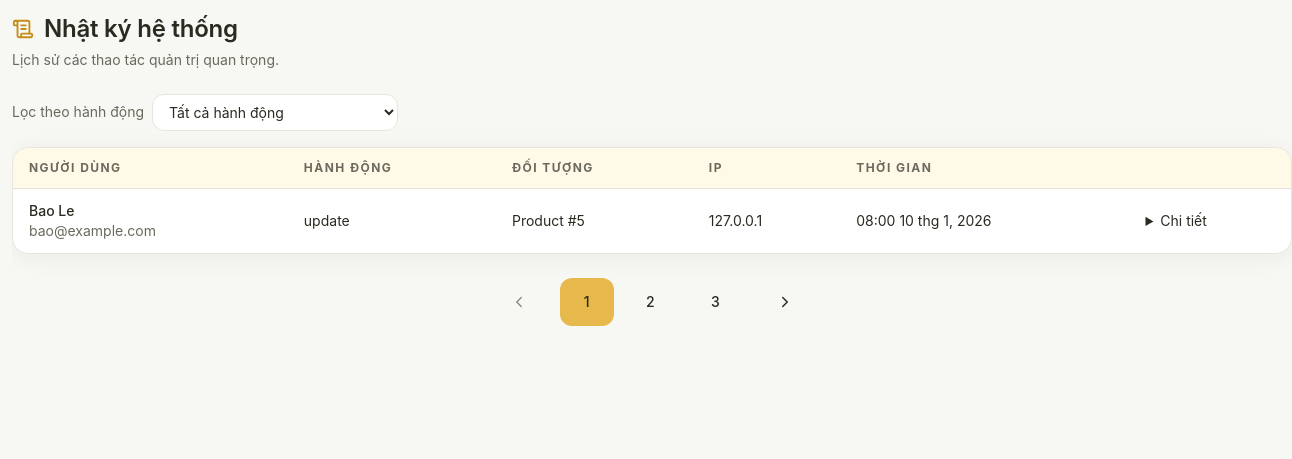
Test: AdminAuditLogsPage › expands a row to show old and new values
Expected: the text "Bao Le" is shown, [29,202,74,219]
Click the heading "Chi tiết" at coordinates (1184, 220), box [1160,212,1207,229]
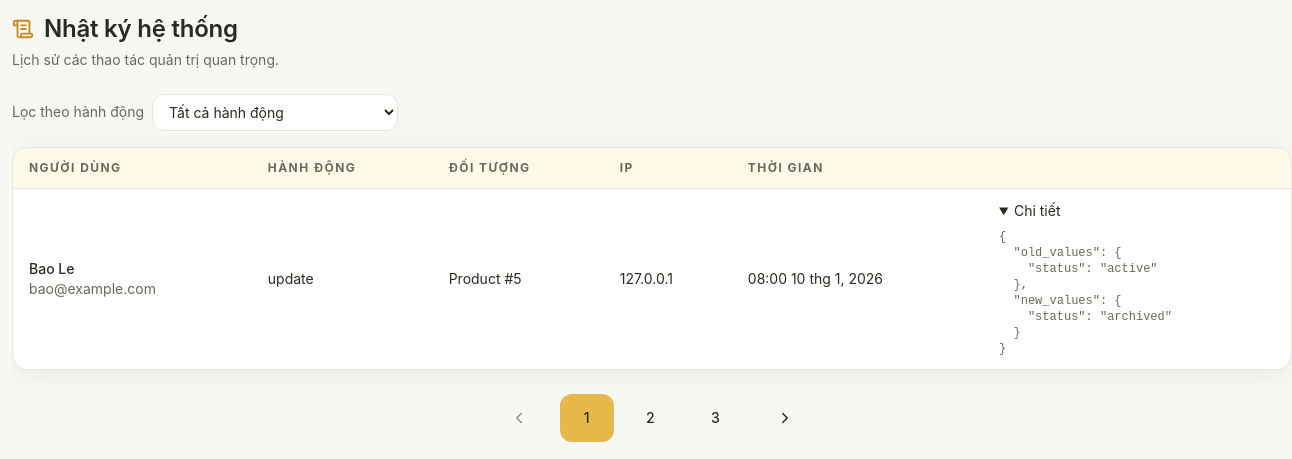
Expected: the text "\"archived\"" is shown, [999,230,1172,356]
